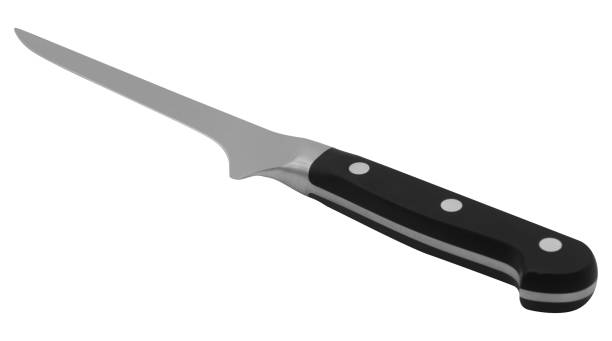knife: (11, 25, 601, 316)
